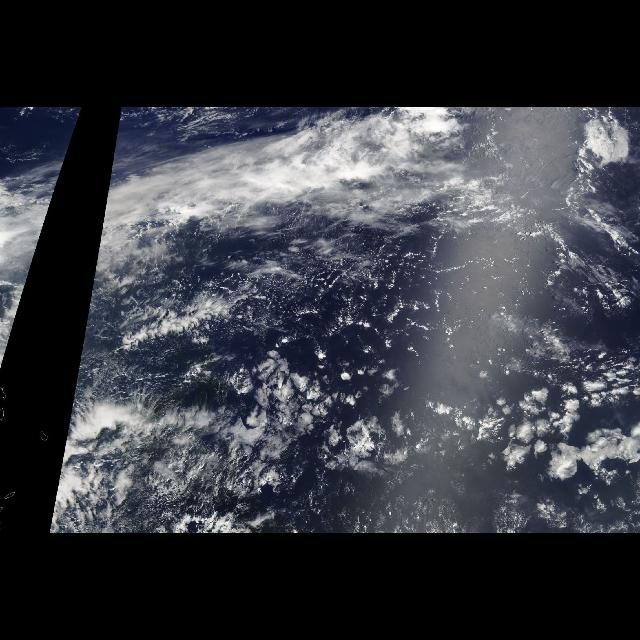Flower: (332, 322, 640, 530)
